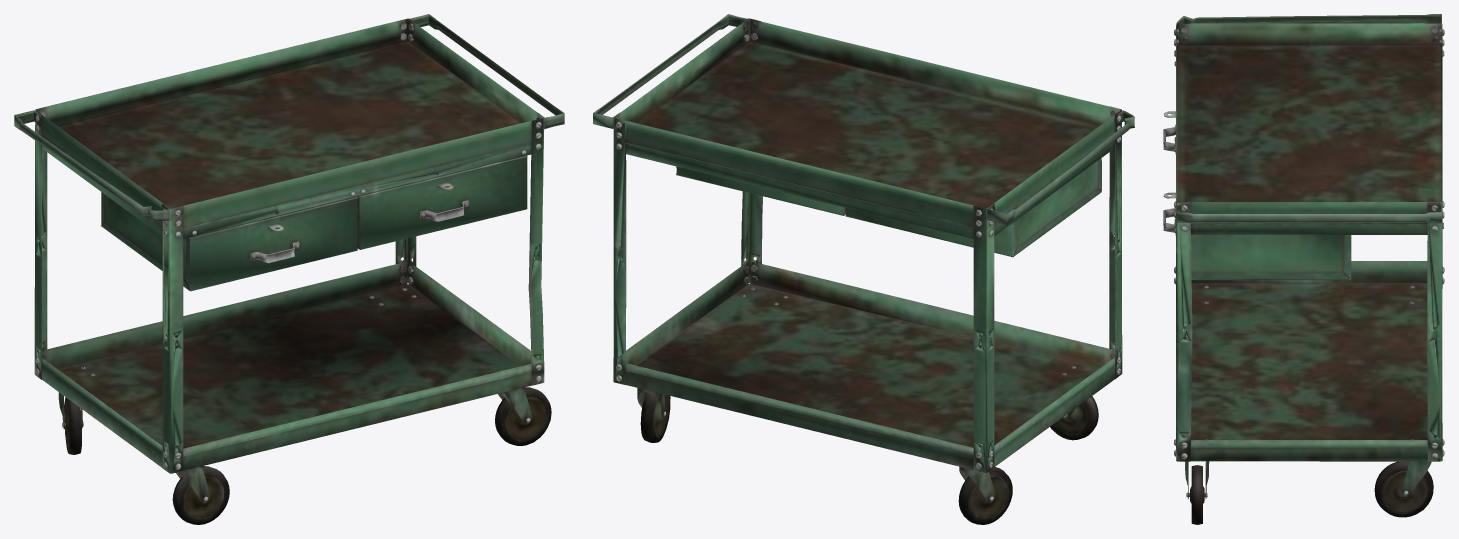
The model's file is cart.glb.
3 renders of one model, left to right at view 1: azimuth 30°, elevation 25°; view 2: azimuth 150°, elevation 25°; view 3: azimuth 270°, elevation 25°, orthographic. The views are drawn at different scales.
Parts seen in each view (by area): view 1: tool_cart; view 2: tool_cart; view 3: tool_cart.
Boxes of the visible parts, x1=… form: tool_cart: x1=14, y1=14, x2=564, y2=524; tool_cart: x1=593, y1=14, x2=1134, y2=524; tool_cart: x1=1163, y1=14, x2=1444, y2=524.
Bounding box in the file's own units: 1.27 × 0.9652 × 0.7535.
Materials: 1 (1 with a texture image).
